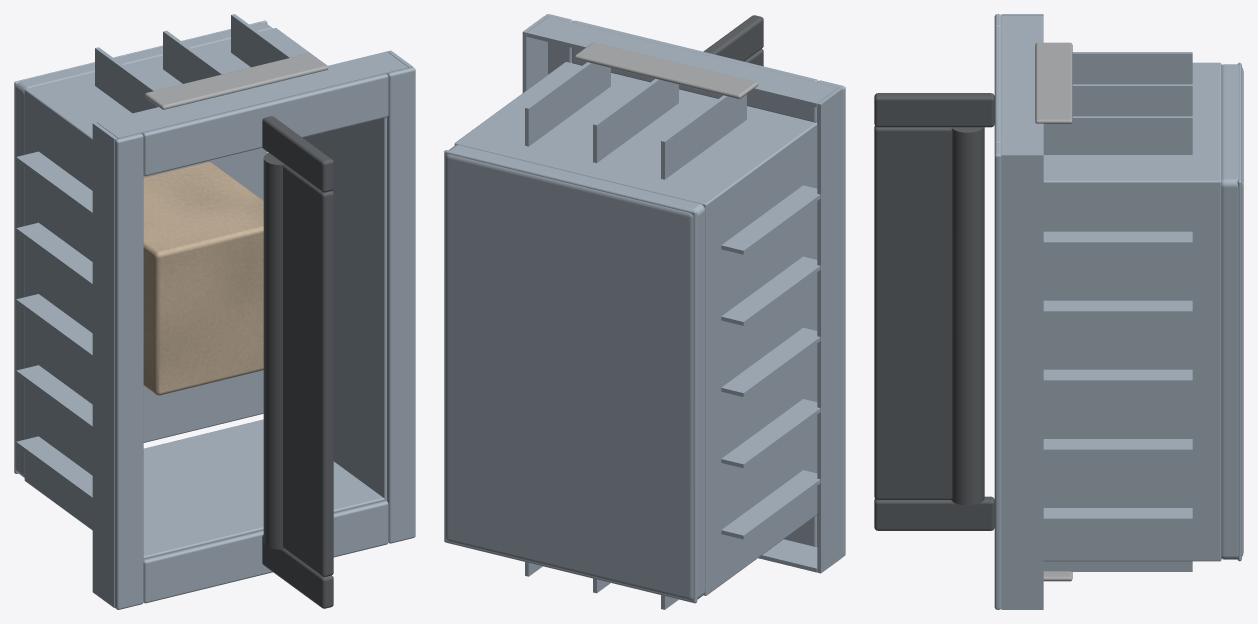
The picture shows the model from 3 angles, left to right: view 1: azimuth 30°, elevation 25°; view 2: azimuth 150°, elevation 25°; view 3: azimuth 270°, elevation 25°; orthographic projection. The views are drawn at different scales.
Parts seen in each view (by area): view 1: /World/Totes/R05/Visual/TotePolypropylene, /World/Totes/R05/Visual/ToteRail, /World/Totes/R05/Goods0/Visual/Cardboard, /World/Totes/R05/Visual/PlasticGrey; view 2: /World/Totes/R05/Visual/TotePolypropylene, /World/Totes/R05/Visual/PlasticGrey, /World/Totes/R05/Visual/ToteRail; view 3: /World/Totes/R05/Visual/TotePolypropylene, /World/Totes/R05/Visual/ToteRail, /World/Totes/R05/Visual/PlasticGrey.
Boxes of the visible parts, <box> form: /World/Totes/R05/Visual/TotePolypropylene: <box>14,14,415,609</box>; /World/Totes/R05/Visual/ToteRail: <box>262,116,333,608</box>; /World/Totes/R05/Goods0/Visual/Cardboard: <box>143,162,263,395</box>; /World/Totes/R05/Visual/PlasticGrey: <box>144,53,328,109</box>; /World/Totes/R05/Visual/TotePolypropylene: <box>444,14,845,609</box>; /World/Totes/R05/Visual/PlasticGrey: <box>575,42,758,99</box>; /World/Totes/R05/Visual/ToteRail: <box>703,15,763,66</box>; /World/Totes/R05/Visual/TotePolypropylene: <box>994,14,1243,609</box>; /World/Totes/R05/Visual/ToteRail: <box>874,93,994,530</box>; /World/Totes/R05/Visual/PlasticGrey: <box>1035,42,1072,581</box>.
Size of the model in its own units: 0.198 by 0.301 by 0.218.
Materials: 6 (2 with a texture image).
